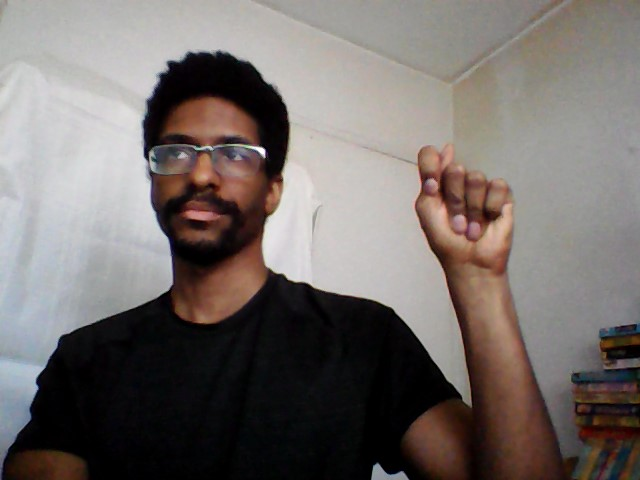t: (411, 138, 519, 277)
